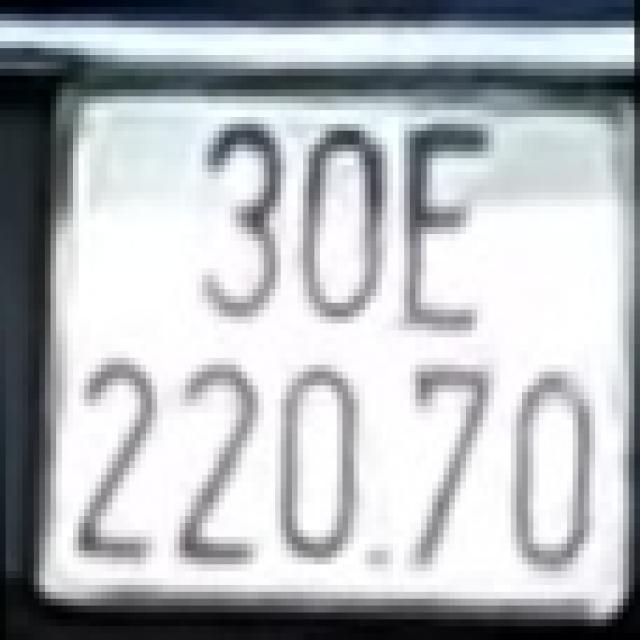0: (298, 116, 388, 324), (511, 364, 595, 572), (275, 358, 359, 564)
2: (174, 358, 258, 564), (79, 358, 157, 564)
3: (196, 116, 286, 324)
7: (404, 358, 494, 571)
E: (398, 110, 494, 337)
